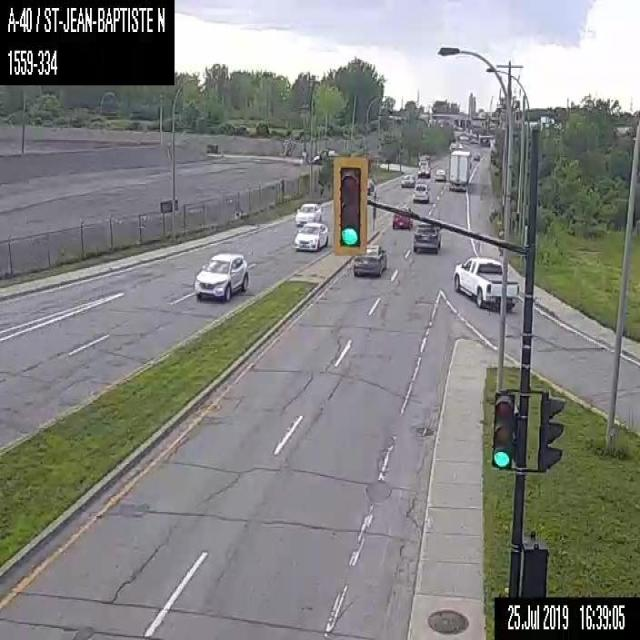vehicle: (450, 256, 518, 309), (193, 251, 250, 301), (352, 243, 386, 276), (294, 220, 328, 250), (448, 149, 470, 189), (412, 221, 439, 252), (294, 202, 322, 226), (391, 202, 410, 229), (412, 182, 428, 202), (417, 158, 430, 176), (400, 173, 415, 187), (366, 175, 374, 194), (434, 168, 445, 180), (472, 151, 479, 160)
